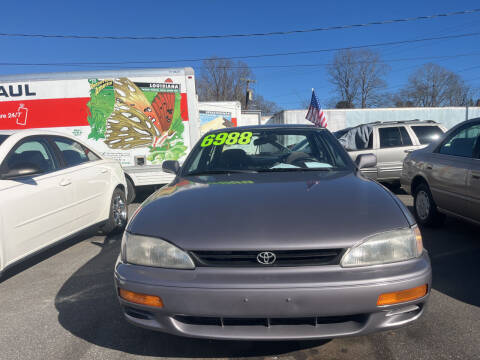car: (112, 121, 435, 344), (1, 64, 208, 202), (1, 127, 129, 278), (399, 112, 480, 225)
